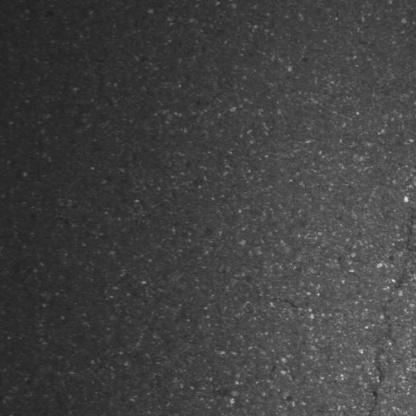Cracks: (360, 267, 413, 416), (403, 202, 416, 290)
